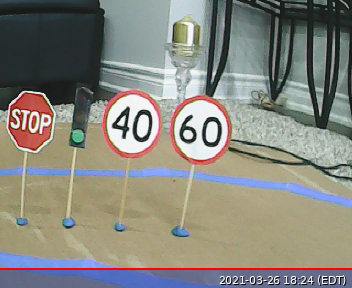Green Traffic Light: (66, 86, 93, 149)
Speed Limit 40: (101, 89, 162, 159)
Speed Limit 60: (169, 96, 231, 165)
Stop Sign: (5, 90, 56, 153)
